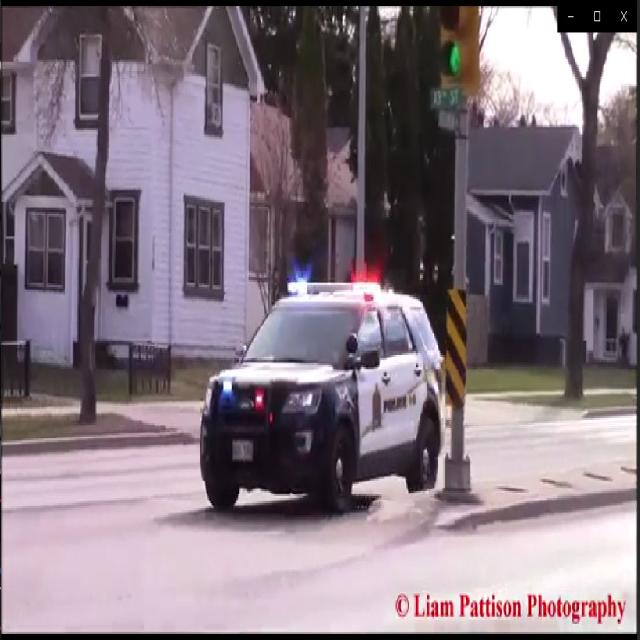emergency: (199, 251, 447, 520)
